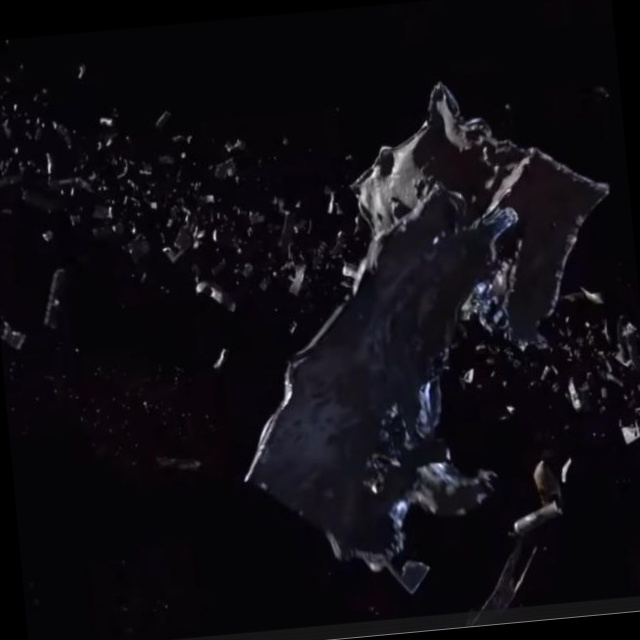large_debris: (187, 67, 636, 525), (496, 452, 586, 544), (29, 260, 76, 343), (606, 318, 639, 375), (576, 274, 606, 316)
